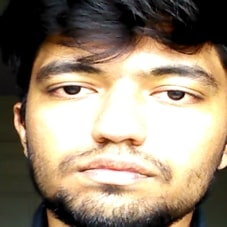drowsy: (37, 58, 227, 189)
